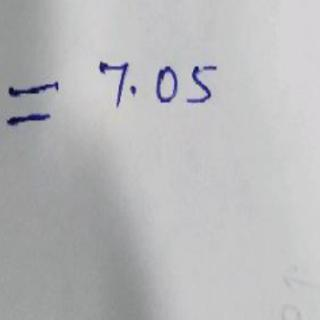.: (123, 81, 142, 102)
0: (153, 65, 179, 103)
5: (183, 65, 218, 104)
7: (99, 57, 129, 110)
